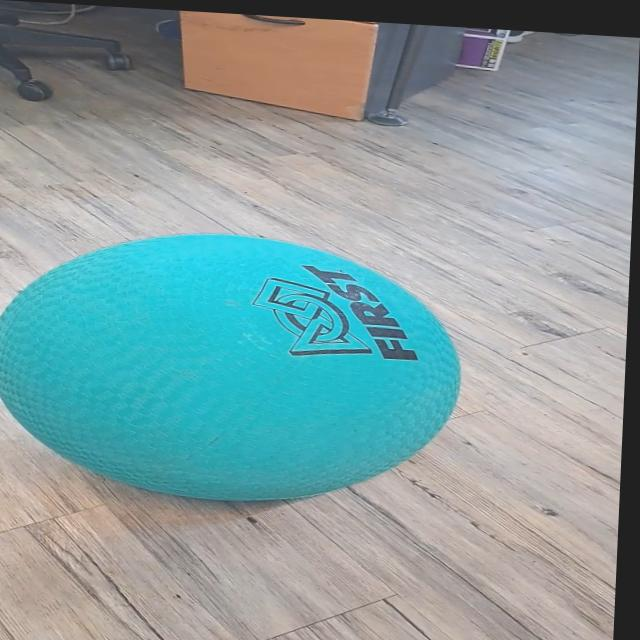ALGAE: (0, 218, 468, 515)
